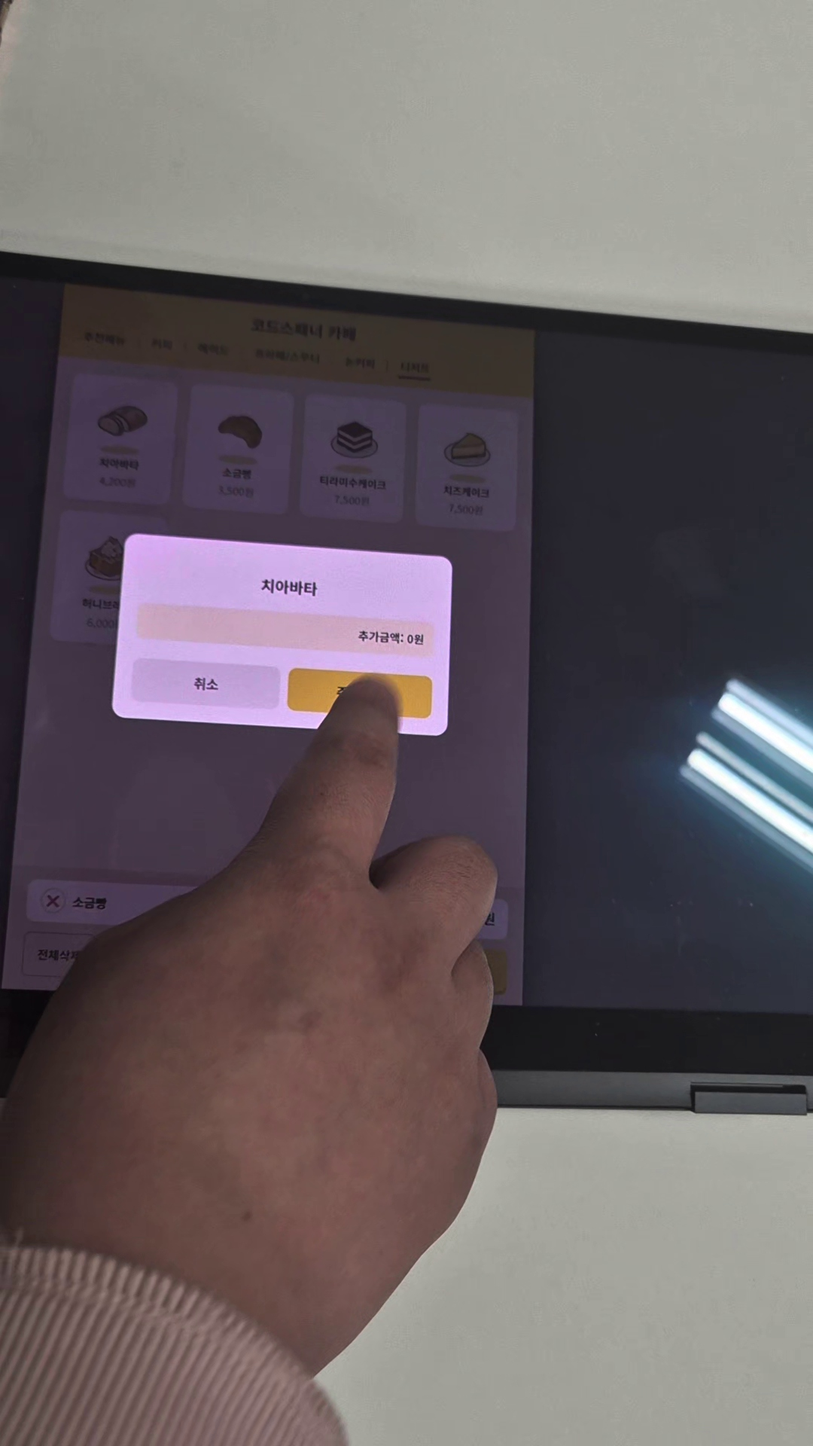action_button: (134, 657, 278, 709), (289, 668, 429, 716)
menu_name: (260, 577, 315, 597)
popup_modal: (113, 535, 448, 730)
